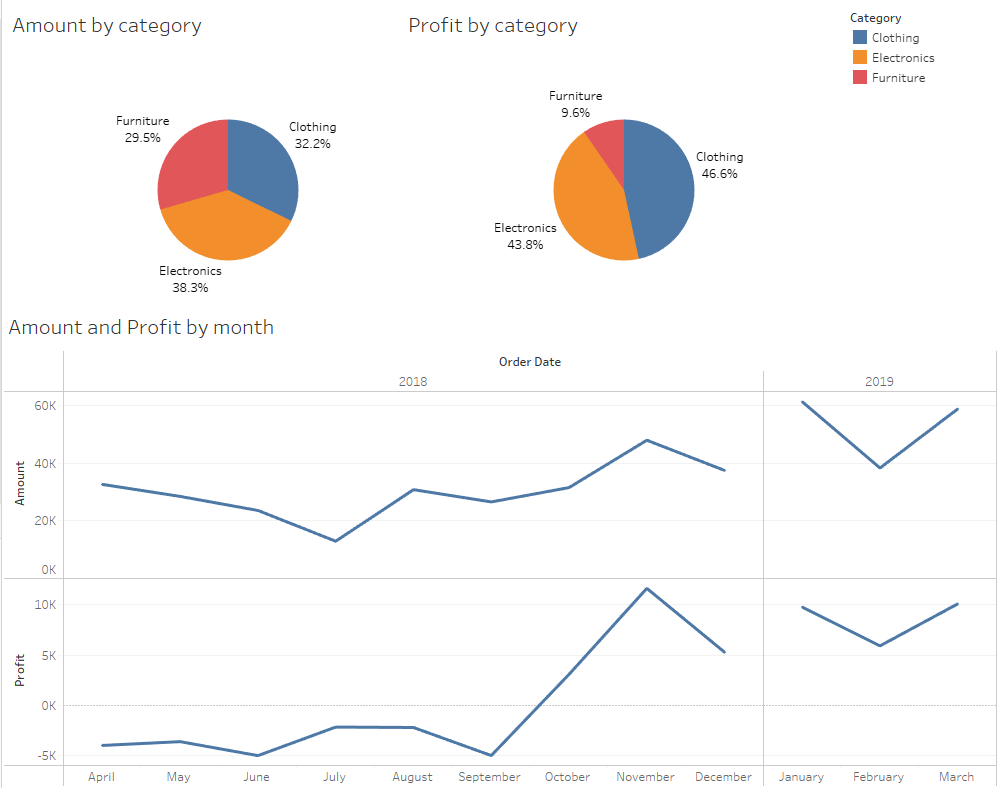

The dashboard page shown, as its layout file describes it:
{"tool":"tableau","page":{"name":"Dashboard 1","canvas":[1000,800],"ordinal":0},"visuals":[{"type":"worksheet","title":"Sheet 1","mark":"Pie","box":[6,14,440,325]},{"type":"worksheet","title":"Sheet 2","mark":"Pie","box":[402,14,440,325]},{"type":"legend","title":"Sheet 1","param":"[federated.0m88nqi1w2g4np1cgb4lk1v1m7ds].[none:Category:nk]","box":[848,17,140,78]},{"type":"worksheet","title":"Sheet 3","mark":"Automatic","rows":["Amount","Profit"],"cols":["Order Date","Order Date"],"box":[2,316,993,479]}]}

Visuals, with their boxes in screenshot pixels (x1, y1, x2, y2), scaled from the page's 1000x800 canvas onto the 998x788 screenshot:
"Sheet 1" worksheet (Pie marks): 6,14,445,334
"Sheet 2" worksheet (Pie marks): 401,14,840,334
"Sheet 1" legend: 846,17,986,94
"Sheet 3" worksheet: 2,311,993,783
